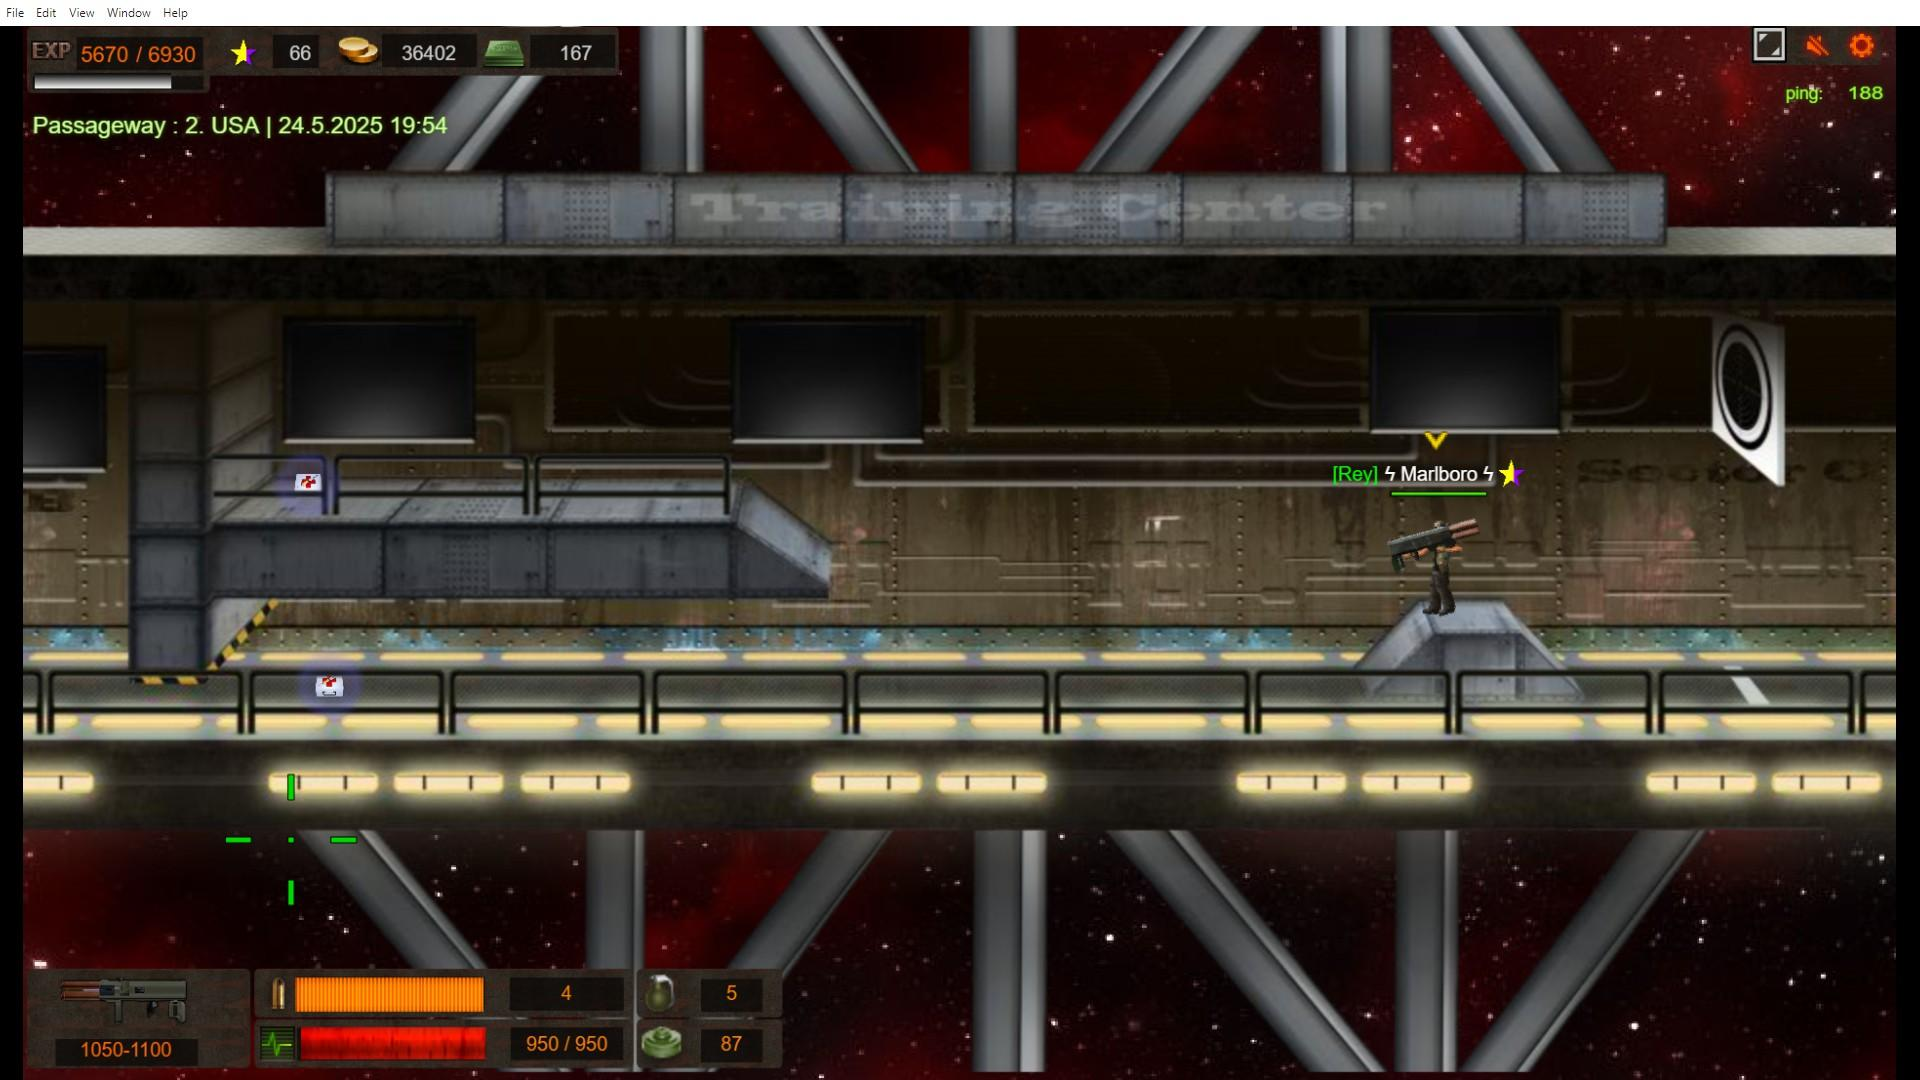enemy: (1428, 521, 1456, 620)
